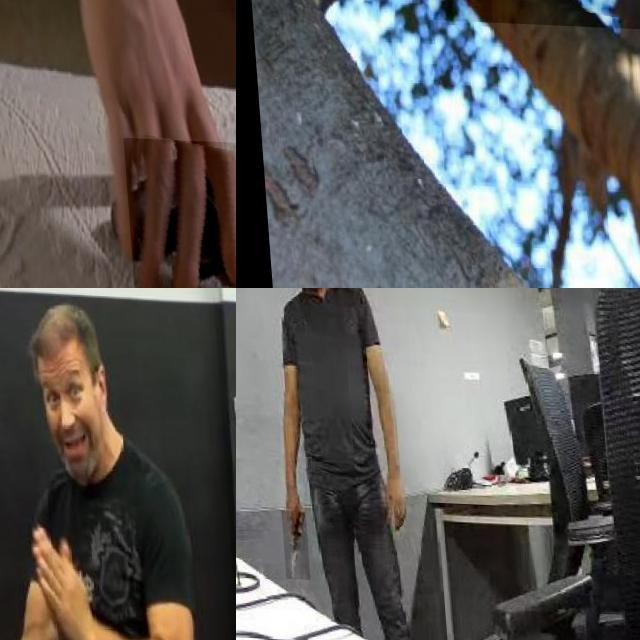-: (417, 0, 640, 97), (274, 508, 302, 578)
gun-knife-thesis - v11 Yolov5 augmented: (117, 135, 236, 288)
